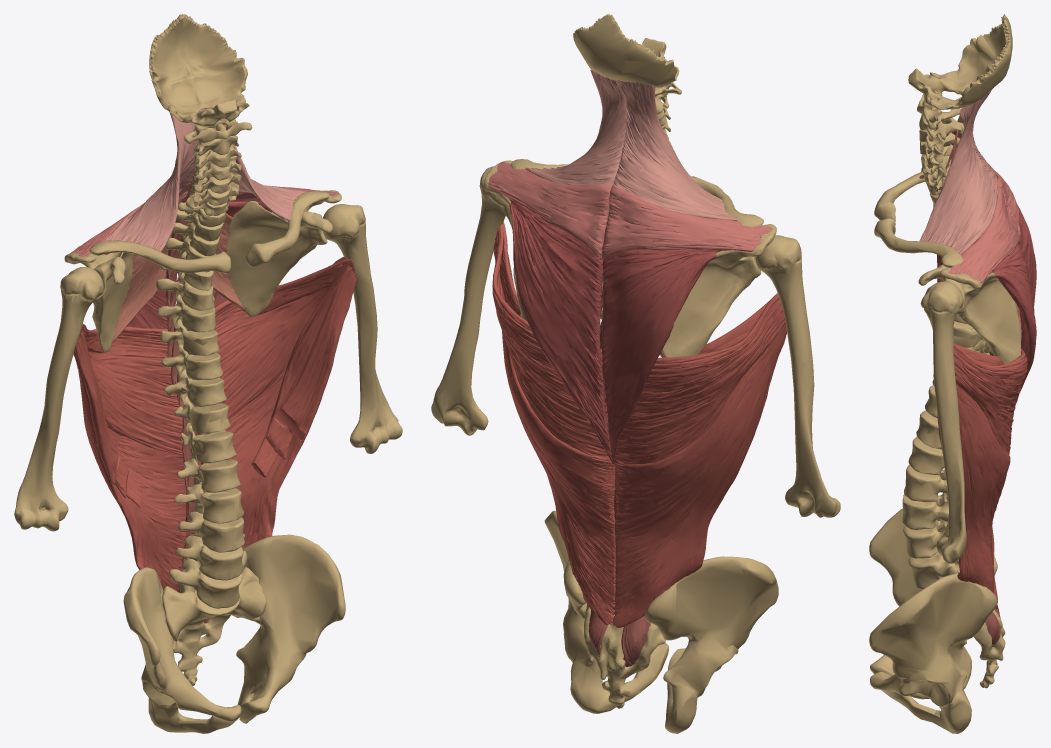
The model's file is back-layers.glb.
3 views of the same model, side by side, from view 1: azimuth 30°, elevation 25°; view 2: azimuth 150°, elevation 25°; view 3: azimuth 270°, elevation 25° (orthographic). The views are drawn at different scales.
Visible parts, largest first — view 1: FMA13359, FMA13358, FMA16587, FMA52735, FMA23130, FMA16586, FMA23131, FMA13396, FMA16202, FMA33586, FMA13395, FMA13322 (+22 smaller); view 2: FMA13358, FMA13359, FMA33583, FMA16586, FMA33581, FMA23130, FMA33586, FMA23131, FMA33584, FMA33585, FMA13395, FMA16587 (+6 smaller); view 3: FMA16587, FMA13359, FMA23131, FMA33587, FMA52735, FMA13396, FMA16586, FMA33585, FMA33583, FMA13323, FMA13074, FMA13073 (+17 smaller).
Boxes of the visible parts, <box> form: FMA13359: <box>190,256,359,548</box>; FMA13358: <box>73,324,186,590</box>; FMA16587: <box>236,534,345,723</box>; FMA52735: <box>149,14,249,126</box>; FMA23130: <box>14,267,103,531</box>; FMA16586: <box>123,567,241,733</box>; FMA23131: <box>322,204,402,453</box>; FMA13396: <box>227,190,341,316</box>; FMA16202: <box>162,567,266,685</box>; FMA33586: <box>104,110,201,251</box>; FMA13395: <box>64,251,133,352</box>; FMA13322: <box>89,240,230,273</box>; FMA13358: <box>613,293,786,627</box>; FMA13359: <box>492,222,615,624</box>; FMA33583: <box>508,198,613,464</box>; FMA16586: <box>645,556,778,733</box>; FMA33581: <box>601,249,721,463</box>; FMA23130: <box>755,235,840,517</box>; FMA33586: <box>613,80,739,220</box>; FMA23131: <box>431,166,505,435</box>; FMA33584: <box>601,184,772,260</box>; FMA33585: <box>488,162,612,260</box>; FMA13395: <box>662,224,776,357</box>; FMA16587: <box>544,510,668,713</box>; FMA16587: <box>869,573,997,733</box>; FMA13359: <box>937,343,1027,608</box>; FMA23131: <box>920,281,966,563</box>; FMA33587: <box>919,88,997,254</box>; FMA52735: <box>908,14,1012,109</box>; FMA13396: <box>918,264,1020,363</box>; FMA16586: <box>869,508,997,699</box>; FMA33585: <box>948,184,1020,282</box>; FMA33583: <box>991,243,1036,405</box>; FMA13323: <box>874,218,962,267</box>; FMA13074: <box>902,493,948,529</box>; FMA13073: <box>904,464,948,501</box>.
Bounding box in the file's own units: 4.82 × 8.31 × 1.8.
